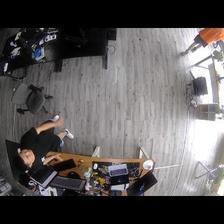normal: (12, 114, 75, 168), (178, 28, 224, 58)
